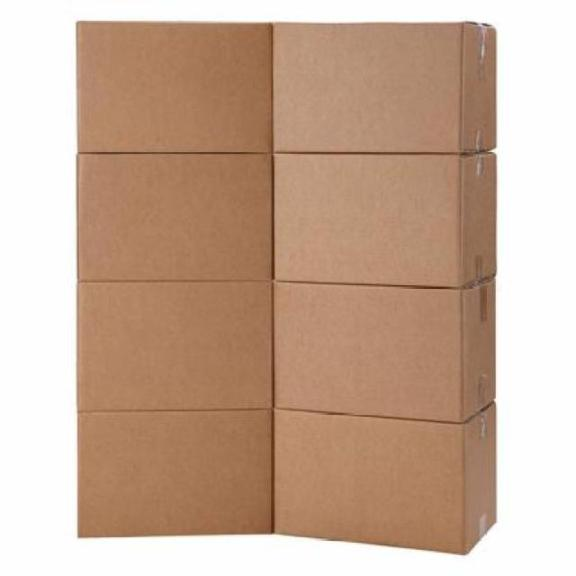Kertas: (269, 276, 505, 428), (274, 400, 501, 555), (274, 280, 494, 422), (274, 280, 493, 422), (274, 279, 493, 421), (274, 281, 493, 421), (275, 281, 493, 421), (275, 282, 493, 421)
